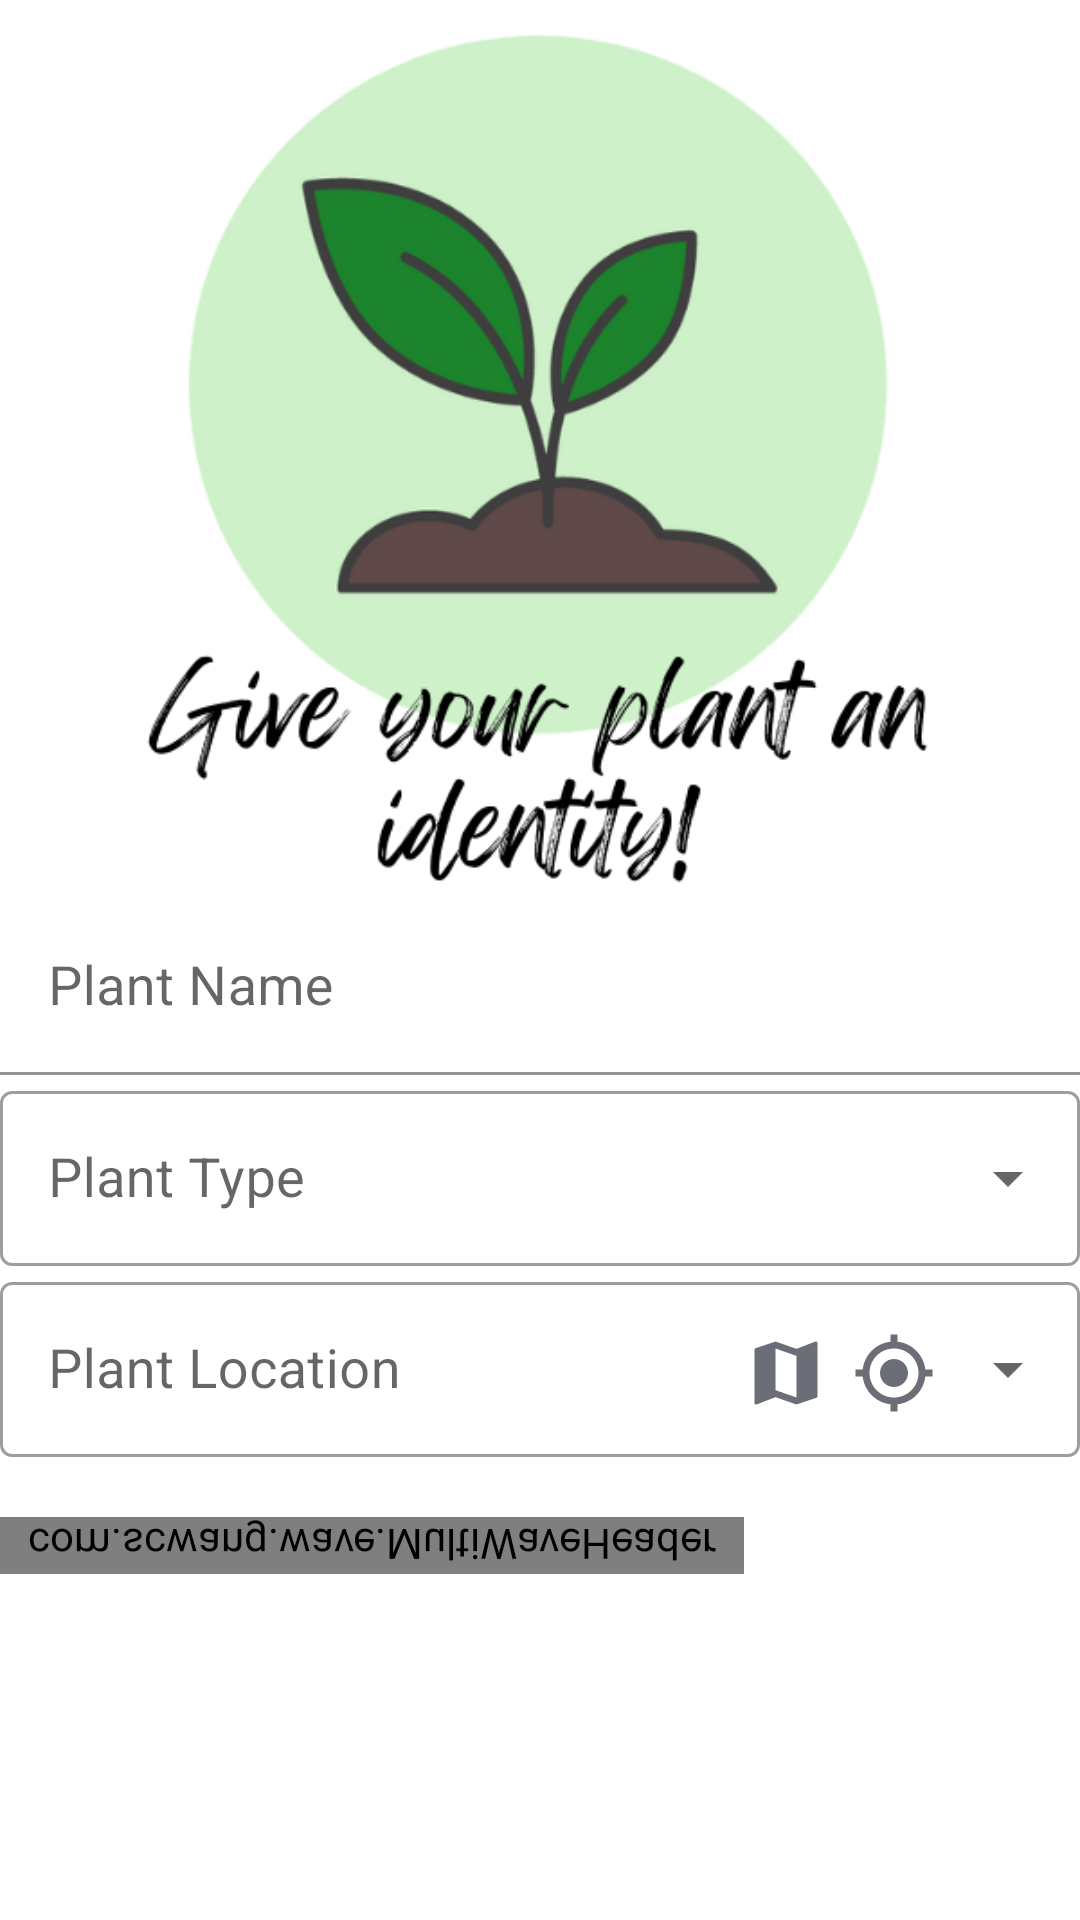

Icon click points for this 1080 x 1920 phone screenshot, format (x,y):
maps google: (786,1373)
